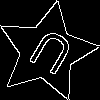U: (21, 27, 77, 85)
